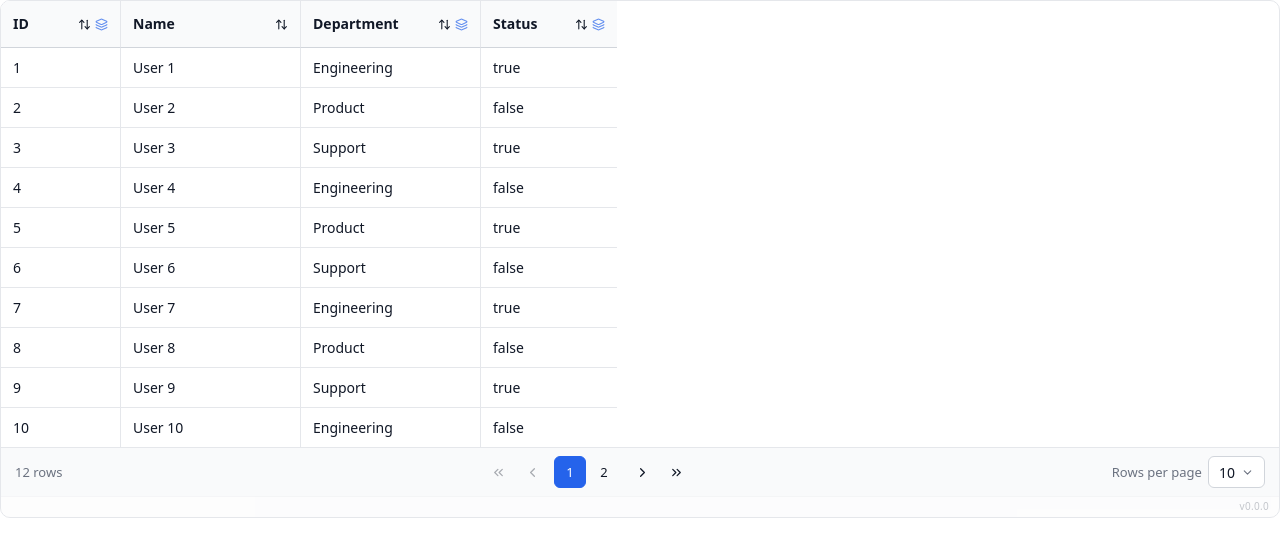
Test: DataTable - pagination › changing page size updates visible rows and resets to the first page
Click the button named "Next page" at {"x": 642, "y": 472}, box [626, 456, 658, 488]
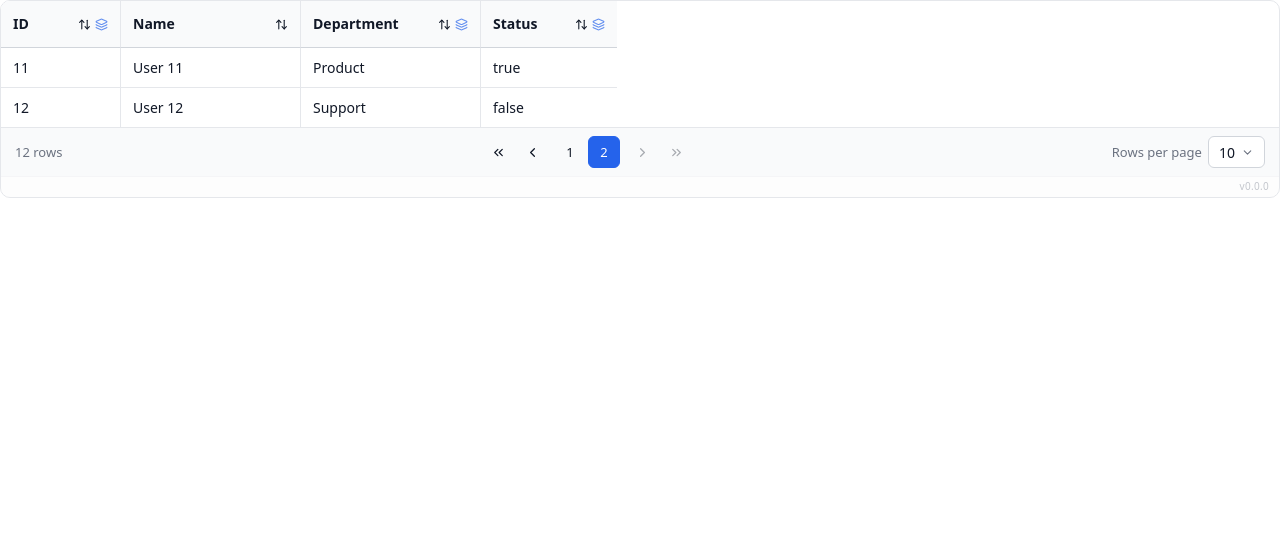
expect the text "User 11" is shown: met, box [121, 48, 301, 88]
Click the dropdown named "Rows per page" at {"x": 1236, "y": 152}, box [1208, 136, 1265, 168]
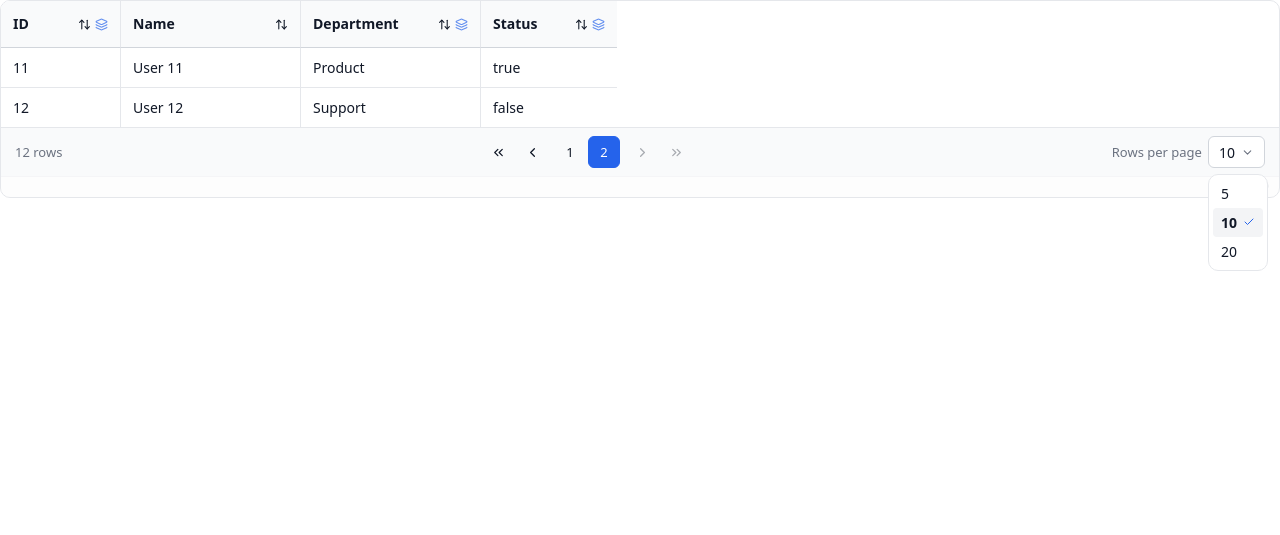
Click the option "5" at {"x": 1225, "y": 194}, box [1221, 184, 1229, 203]
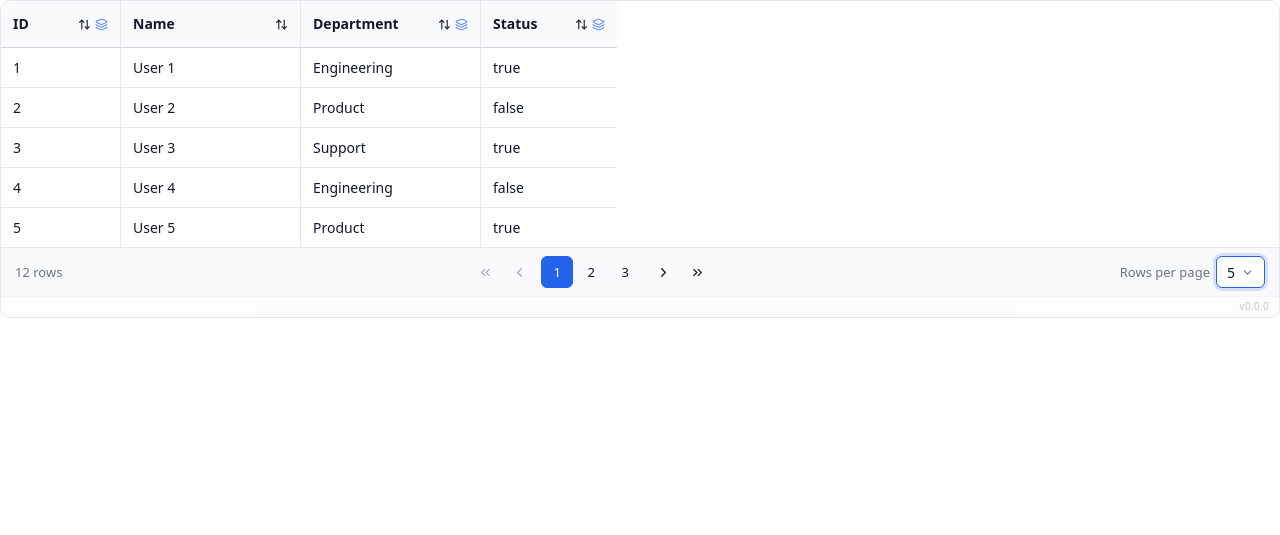
expect the text "User 1" is shown: met, box [121, 48, 301, 88]
expect the text "User 11" is gone: met
